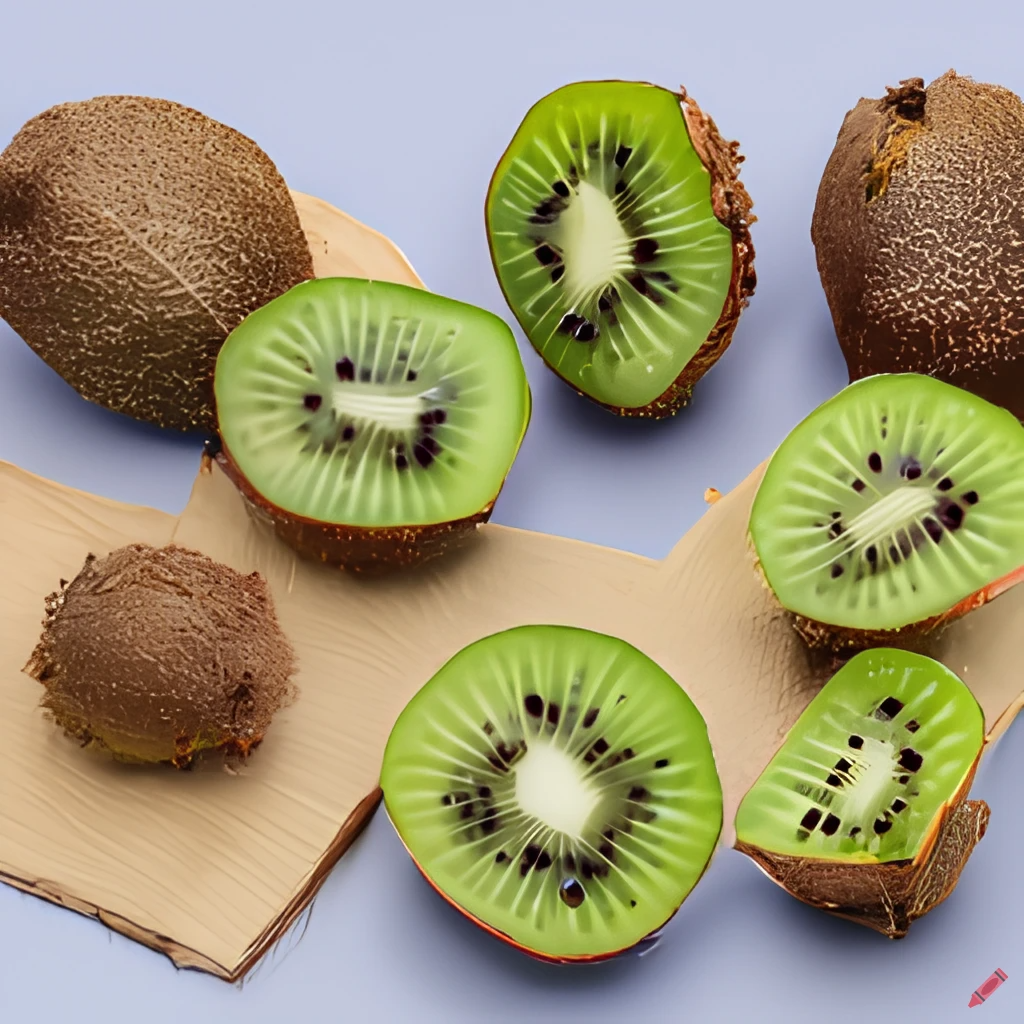Kiwi: (0, 75, 346, 430), (371, 621, 718, 954), (725, 66, 1024, 418), (217, 242, 528, 580)
